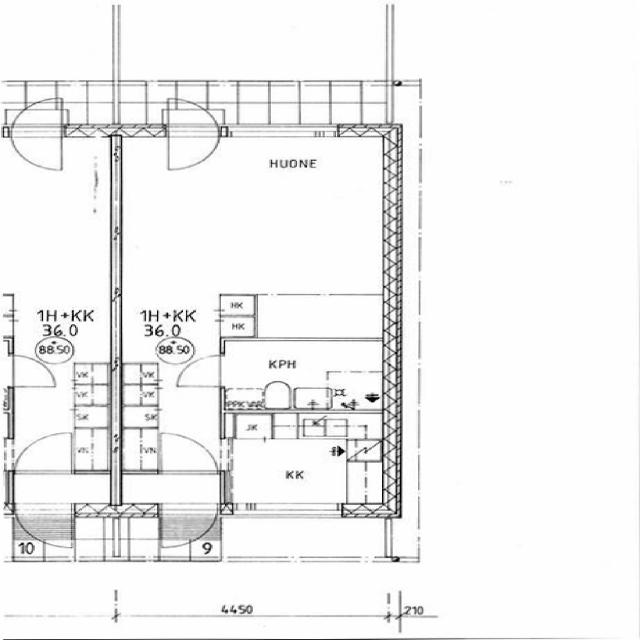door: (161, 503, 216, 556), (161, 431, 217, 474), (169, 124, 218, 172), (169, 89, 218, 137), (176, 355, 224, 386)
